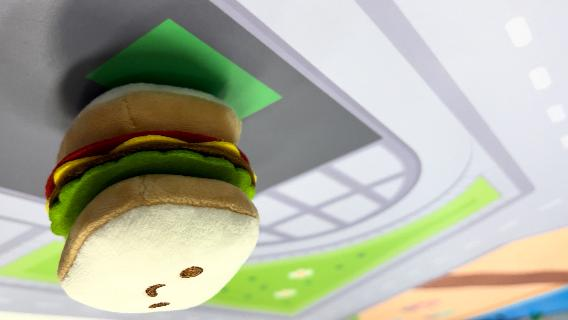sandwich: (43, 80, 263, 314)
